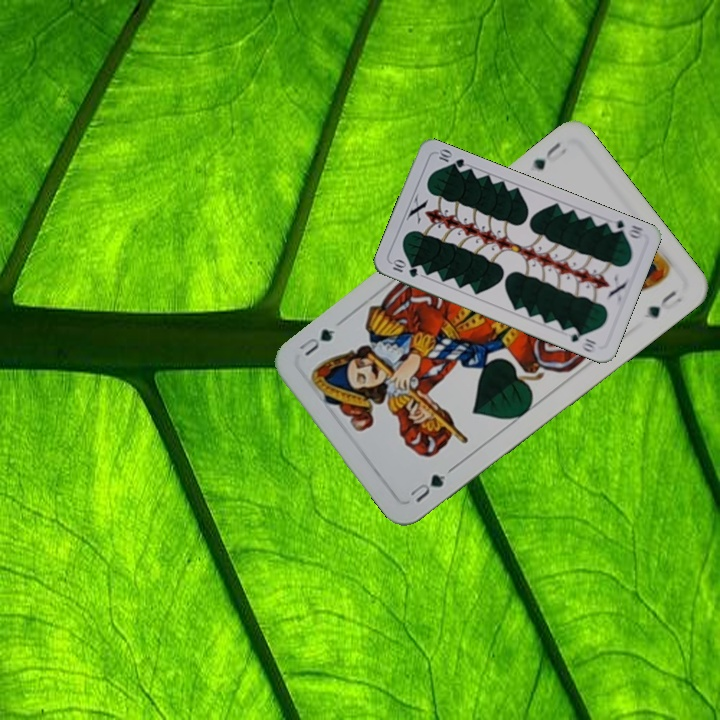G10: (605, 216, 646, 241), (388, 256, 420, 280)
GU: (404, 470, 449, 506), (527, 138, 570, 173)
